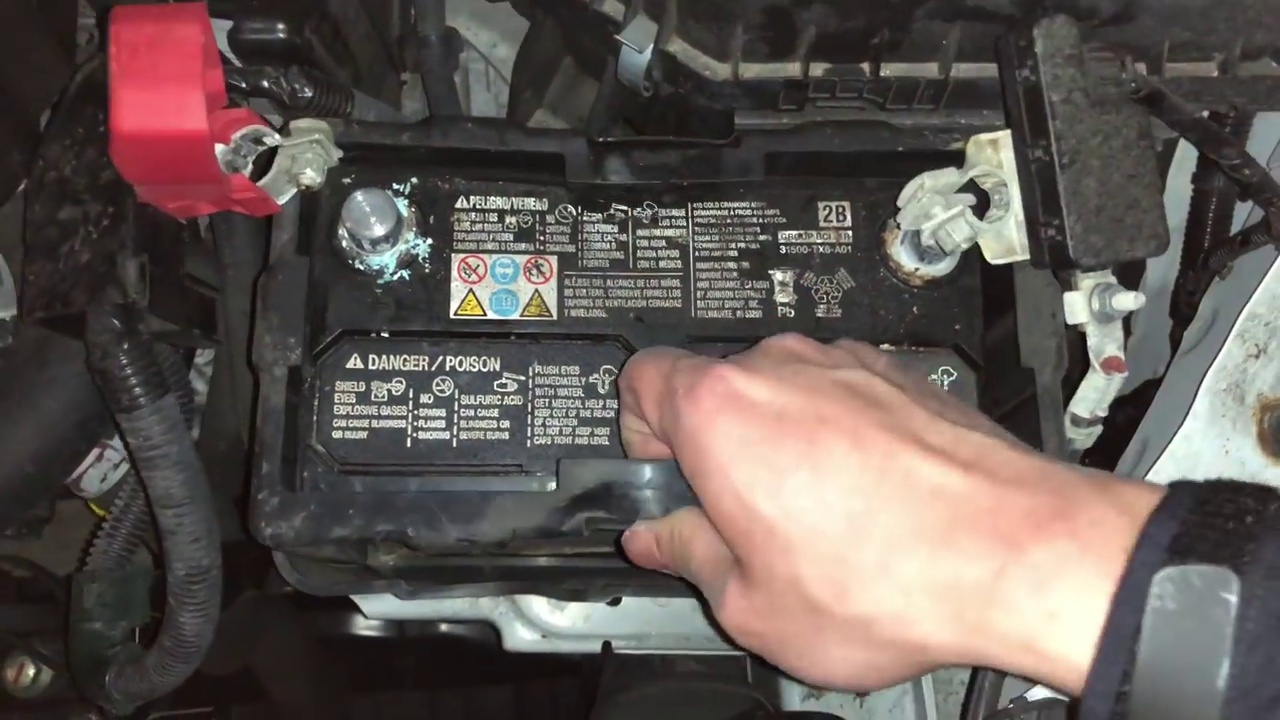battery: (233, 95, 1003, 587)
neg_disconnected: (862, 131, 1045, 306)
pos_disconnected: (170, 34, 410, 284)
